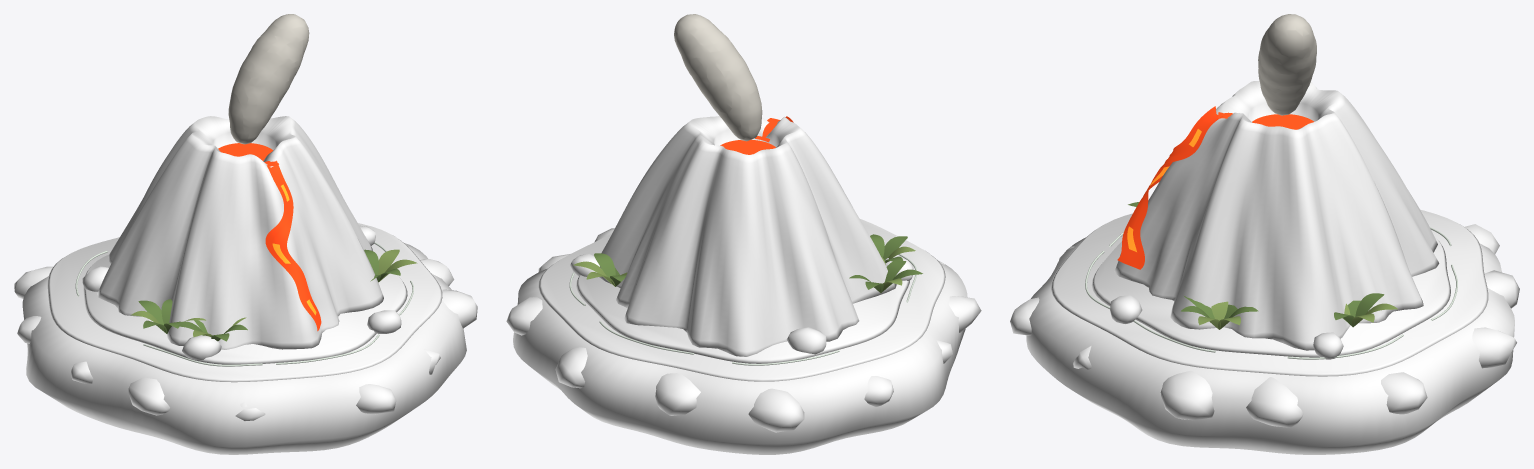
Rendered from volcano-island-v4.glb.
3 views of the same model, side by side, from view 1: azimuth 30°, elevation 25°; view 2: azimuth 150°, elevation 25°; view 3: azimuth 270°, elevation 25° (orthographic). The views are drawn at different scales.
Parts seen in each view (by area): view 1: Volcano | hollow fluted mountain, Rock | irregular island foundation, Water | enclosed turquoise lagoon, Sand | island shore, Smoke | blended plume.001, Lava | continuous winding flow, Rock | shoreline boulder.007, Rock | shoreline boulder.009, Rock | shoreline boulder.011, Rock | beach stone, Rock | beach stone.001, Lava | crater pool (+1 smaller); view 2: Volcano | hollow fluted mountain, Rock | irregular island foundation, Water | enclosed turquoise lagoon, Sand | island shore, Smoke | blended plume.001, Rock | shoreline boulder.004, Rock | shoreline boulder.003, Rock | shoreline boulder.002, Rock | shoreline boulder.001, Rock | beach stone.003, Rock | shoreline boulder.007, Rock | shoreline boulder.005 (+1 smaller); view 3: Volcano | hollow fluted mountain, Rock | irregular island foundation, Water | enclosed turquoise lagoon, Sand | island shore, Smoke | blended plume.001, Lava | continuous winding flow, Rock | shoreline boulder.011, Rock | shoreline boulder, Rock | shoreline boulder.001, Rock | shoreline boulder.002, Rock | shoreline boulder.003, Rock | beach stone.001 (+3 smaller).
Boxes of the visible parts, left/top/right/bottom form: Volcano | hollow fluted mountain: left=97, top=116, right=383, bottom=349; Rock | irregular island foundation: left=22, top=243, right=466, bottom=454; Water | enclosed turquoise lagoon: left=47, top=223, right=442, bottom=382; Sand | island shore: left=83, top=246, right=407, bottom=364; Smoke | blended plume.001: left=228, top=14, right=309, bottom=144; Lava | continuous winding flow: left=265, top=160, right=321, bottom=331; Rock | shoreline boulder.007: left=128, top=377, right=169, bottom=415; Rock | shoreline boulder.009: left=356, top=384, right=396, bottom=414; Rock | shoreline boulder.011: left=442, top=289, right=477, bottom=328; Rock | beach stone: left=182, top=335, right=221, bottom=359; Rock | beach stone.001: left=367, top=310, right=401, bottom=333; Lava | crater pool: left=218, top=143, right=272, bottom=160; Volcano | hollow fluted mountain: left=599, top=116, right=896, bottom=356; Rock | irregular island foundation: left=513, top=261, right=967, bottom=454; Water | enclosed turquoise lagoon: left=538, top=219, right=945, bottom=381; Sand | island shore: left=576, top=256, right=909, bottom=363; Smoke | blended plume.001: left=674, top=14, right=762, bottom=141; Rock | shoreline boulder.004: left=748, top=388, right=804, bottom=432; Rock | shoreline boulder.003: left=655, top=373, right=700, bottom=415; Rock | shoreline boulder.002: left=555, top=347, right=587, bottom=388; Rock | shoreline boulder.001: left=506, top=297, right=542, bottom=335; Rock | beach stone.003: left=786, top=327, right=826, bottom=354; Rock | shoreline boulder.007: left=948, top=296, right=981, bottom=332; Rock | shoreline boulder.005: left=864, top=376, right=893, bottom=406; Volcano | hollow fluted mountain: left=1114, top=81, right=1439, bottom=350; Rock | irregular island foundation: left=1026, top=237, right=1514, bottom=454; Water | enclosed turquoise lagoon: left=1051, top=209, right=1488, bottom=376; Sand | island shore: left=1091, top=236, right=1450, bottom=357; Smoke | blended plume.001: left=1258, top=14, right=1316, bottom=115; Lava | continuous winding flow: left=1117, top=106, right=1222, bottom=269; Rock | shoreline boulder.011: left=1160, top=370, right=1214, bottom=420; Rock | shoreline boulder: left=1246, top=377, right=1303, bottom=427; Rock | shoreline boulder.001: left=1381, top=372, right=1427, bottom=414; Rock | shoreline boulder.002: left=1472, top=327, right=1516, bottom=368; Rock | shoreline boulder.003: left=1484, top=270, right=1519, bottom=308; Rock | beach stone.001: left=1110, top=295, right=1142, bottom=323.
Bounding box in the file's own units: 1.65 × 1.35 × 1.64.
